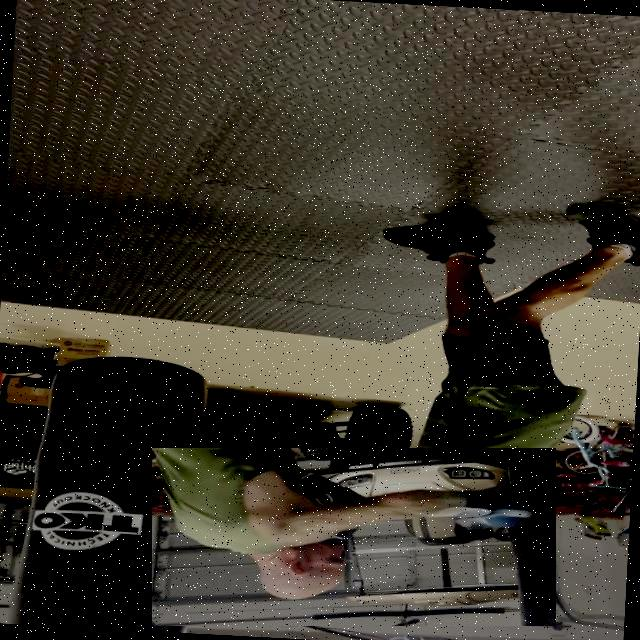punch: (152, 448, 556, 626)
